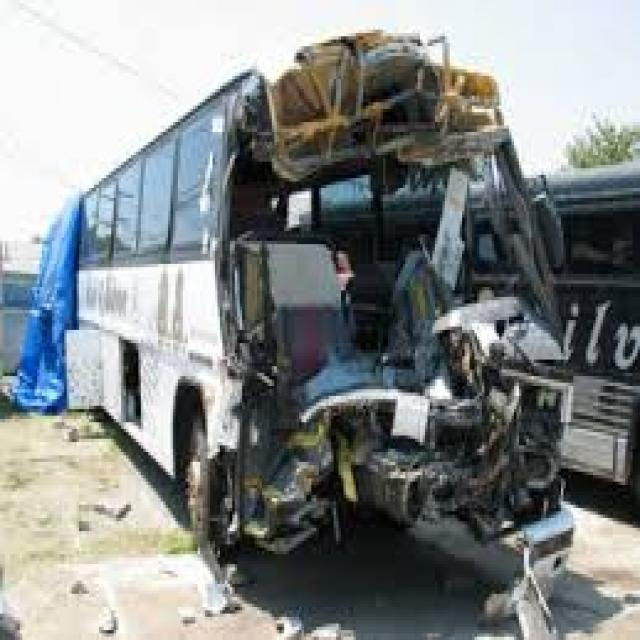accident: (39, 13, 586, 640)
